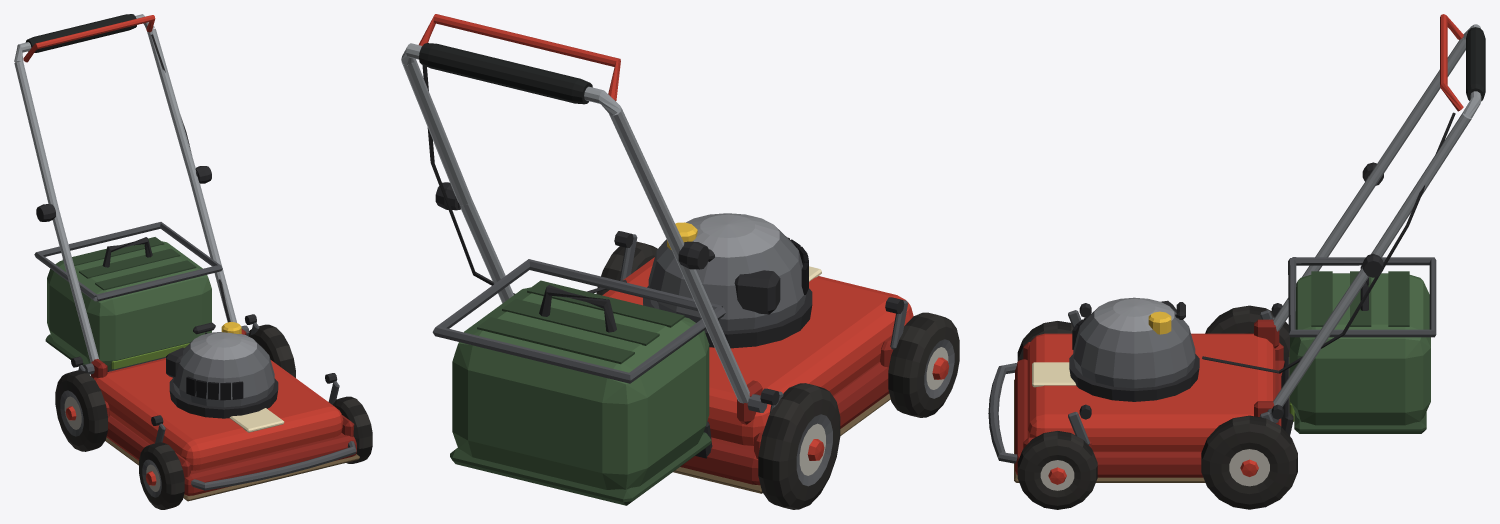
Rendered from Player_Mower.fbx.
The picture shows the model from 3 angles, left to right: view 1: azimuth 30°, elevation 25°; view 2: azimuth 150°, elevation 25°; view 3: azimuth 270°, elevation 25°; orthographic projection. The views are drawn at different scales.
Visible parts, largest first — view 1: MowerBody, MowerHandle, Wheel_BR, Wheel_FR, Wheel_FL, Wheel_BL; view 2: MowerBody, MowerHandle, Wheel_BR, Wheel_FR, Wheel_FL; view 3: MowerBody, MowerHandle, Wheel_BL, Wheel_FL, Wheel_BR, Wheel_FR.
Boxes of the visible parts, <box> form: MowerBody: <box>34,222,359,501</box>; MowerHandle: <box>14,14,249,374</box>; Wheel_BR: <box>55,370,107,451</box>; Wheel_FR: <box>139,442,184,509</box>; Wheel_FL: <box>333,396,372,463</box>; Wheel_BL: <box>248,324,295,377</box>; MowerBody: <box>432,213,913,505</box>; MowerHandle: <box>401,14,767,412</box>; Wheel_BR: <box>758,383,840,509</box>; Wheel_FR: <box>888,312,959,417</box>; Wheel_FL: <box>596,241,657,295</box>; MowerBody: <box>988,257,1436,482</box>; MowerHandle: <box>1202,14,1485,423</box>; Wheel_BL: <box>1201,415,1297,509</box>; Wheel_FL: <box>1017,431,1097,509</box>; Wheel_BR: <box>1205,305,1289,360</box>; Wheel_FR: <box>1017,321,1073,361</box>.
Size of the model in its own units: 0.698 by 1.04 by 1.17.
Materials: 1 (1 with a texture image).
